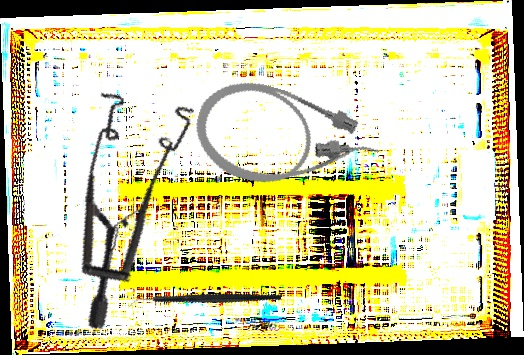Cannula: (185, 69, 388, 213)
Chopper: (128, 248, 283, 355)
Speculum: (33, 71, 242, 333)
